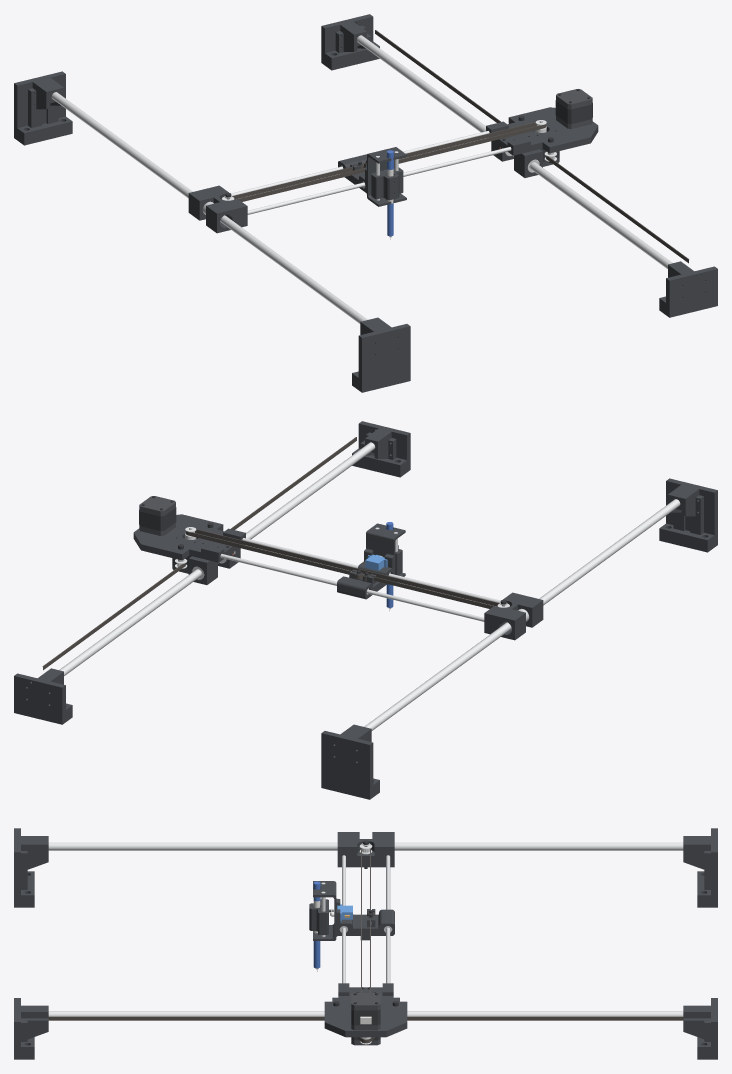
Rendered from cnc.glb.
3 views of the same model, one above another, from view 1: azimuth 30°, elevation 25°; view 2: azimuth 150°, elevation 25°; view 3: azimuth 270°, elevation 25° (orthographic).
Parts seen in each view (by area): view 1: F_SuporteLateral42__pla, F_Barra12mm1__steel, F_Barra12mm2__steel, G_BasePrincipal__pla, G_CorreiaY__belt, F_SuporteLateral21__pla, F_SuporteLateral32__pla, G_ApoioSecundario__pla, F_SuporteLateral11__pla, F_CorreiaX__belt, F_SuporteLateral31__pla, C_CarroPrincipal__plaNew (+5 smaller); view 2: F_SuporteLateral32__pla, F_Barra12mm1__steel, F_Barra12mm2__steel, G_BasePrincipal__pla, G_CorreiaY__belt, F_SuporteLateral11__pla, F_SuporteLateral42__pla, C_CarroPrincipal__plaNew, G_ApoioSecundario__pla, F_SuporteLateral21__pla, F_CorreiaX__belt, F_SuporteLateral41__pla (+4 smaller); view 3: F_Barra12mm1__steel, F_Barra12mm2__steel, F_CorreiaX__belt, G_BasePrincipal__pla, C_CarroPrincipal__plaNew, G_ApoioSecundario__pla, F_SuporteLateral41__pla, F_SuporteLateral31__pla, F_SuporteLateral42__pla, F_SuporteLateral32__pla, F_SuporteLateral22__pla, F_SuporteLateral12__pla (+7 smaller).
Boxes of the visible parts, <box> form: F_SuporteLateral42__pla: <box>352,324,410,392</box>; F_Barra12mm1__steel: <box>51,92,367,323</box>; F_Barra12mm2__steel: <box>356,35,672,268</box>; G_BasePrincipal__pla: <box>486,107,598,155</box>; G_CorreiaY__belt: <box>232,122,545,201</box>; F_SuporteLateral21__pla: <box>659,266,717,317</box>; F_SuporteLateral32__pla: <box>14,71,72,145</box>; G_ApoioSecundario__pla: <box>188,185,247,233</box>; F_SuporteLateral11__pla: <box>321,14,379,70</box>; F_CorreiaX__belt: <box>375,30,689,263</box>; F_SuporteLateral31__pla: <box>28,77,63,127</box>; C_CarroPrincipal__plaNew: <box>338,147,406,206</box>; F_SuporteLateral32__pla: <box>321,731,379,799</box>; F_Barra12mm1__steel: <box>364,499,680,730</box>; F_Barra12mm2__steel: <box>59,442,375,675</box>; G_BasePrincipal__pla: <box>133,514,245,562</box>; G_CorreiaY__belt: <box>186,529,499,608</box>; F_SuporteLateral11__pla: <box>14,673,72,724</box>; F_SuporteLateral42__pla: <box>659,478,717,552</box>; C_CarroPrincipal__plaNew: <box>337,523,405,599</box>; G_ApoioSecundario__pla: <box>484,592,543,640</box>; F_SuporteLateral21__pla: <box>352,421,410,477</box>; F_CorreiaX__belt: <box>42,437,356,670</box>; F_SuporteLateral41__pla: <box>668,484,703,534</box>; F_Barra12mm1__steel: <box>48,842,683,850</box>; F_Barra12mm2__steel: <box>48,1011,683,1016</box>; F_CorreiaX__belt: <box>48,1016,683,1043</box>; G_BasePrincipal__pla: <box>324,983,407,1037</box>; C_CarroPrincipal__plaNew: <box>313,881,394,940</box>; G_ApoioSecundario__pla: <box>337,832,394,867</box>; F_SuporteLateral41__pla: <box>21,836,48,889</box>; F_SuporteLateral31__pla: <box>683,836,710,889</box>; F_SuporteLateral42__pla: <box>14,828,34,907</box>; F_SuporteLateral32__pla: <box>697,828,717,907</box>; F_SuporteLateral22__pla: <box>683,1005,710,1041</box>; F_SuporteLateral12__pla: <box>21,1005,48,1041</box>.
Bounding box in the file's own units: 680 × 142 × 1020.
